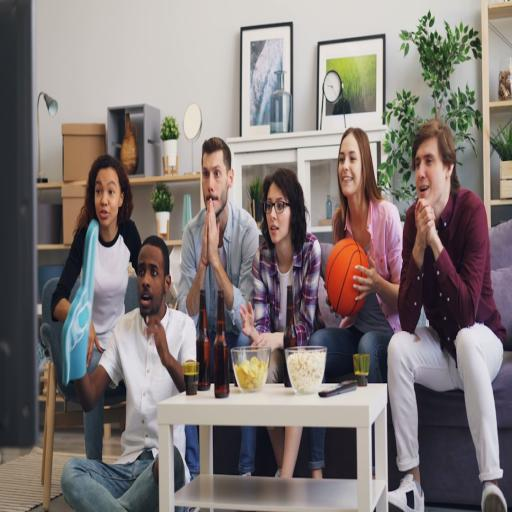face: (415, 138, 452, 218), (138, 245, 170, 317), (202, 150, 233, 217), (94, 168, 123, 233), (338, 133, 363, 197), (266, 206, 291, 245)
